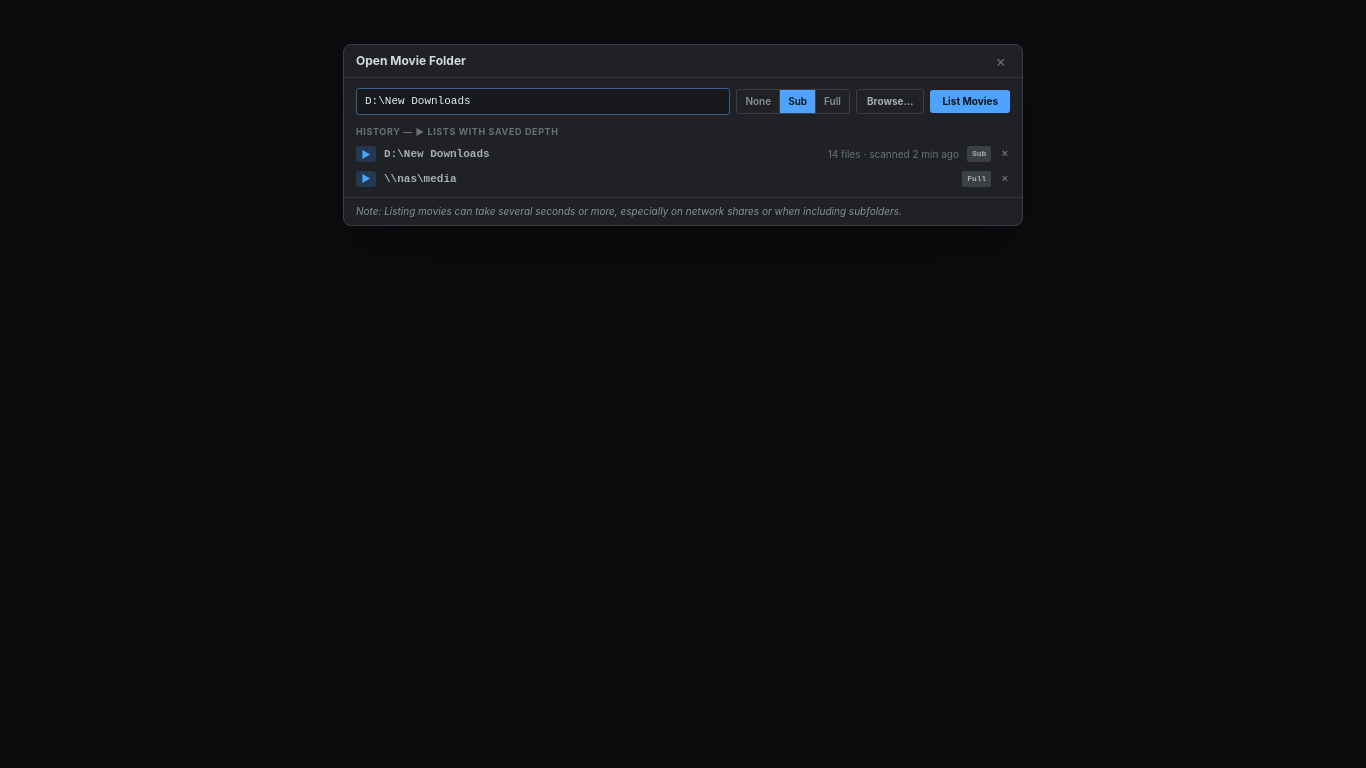
Test: OpenFolderModal › stages a row on path click without selecting
Click the button "\\\\nas\\media" at (420, 178), box x1=384 y1=170 x2=954 y2=187
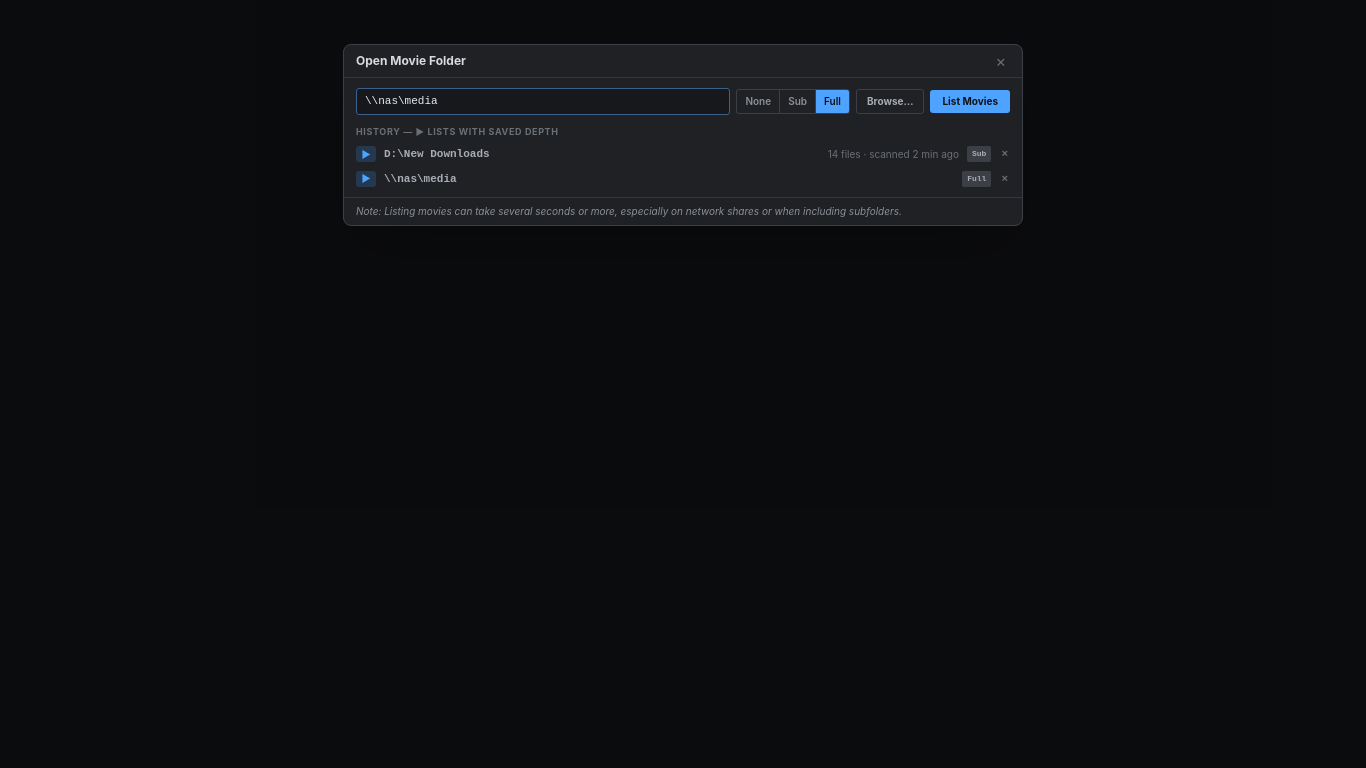
Now the field with test id "folder-path-input" holds "\\\\nas\\media", box x1=356 y1=88 x2=730 y2=114
